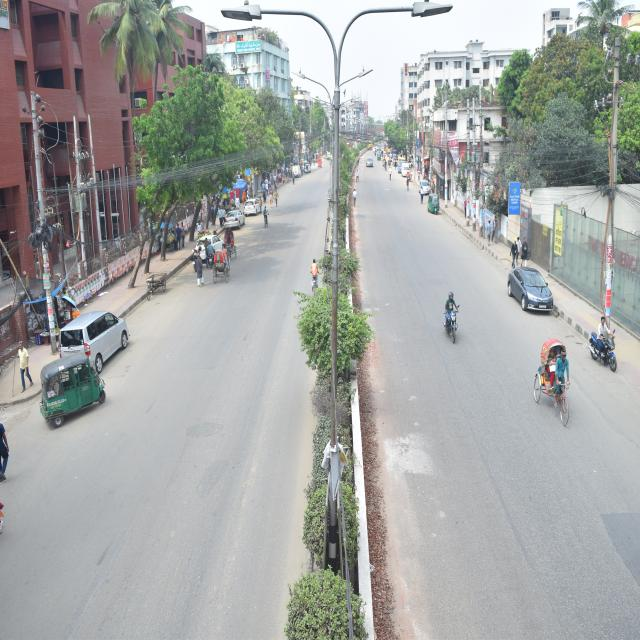car: (60, 291, 152, 383), (493, 251, 579, 336), (194, 214, 226, 288), (224, 192, 256, 243), (414, 176, 457, 209), (243, 187, 269, 227), (358, 148, 383, 176), (399, 154, 414, 186), (297, 155, 314, 182)
motorbike: (427, 271, 461, 385), (579, 309, 629, 386), (205, 239, 217, 291)
pickup-van: (290, 154, 301, 188)
